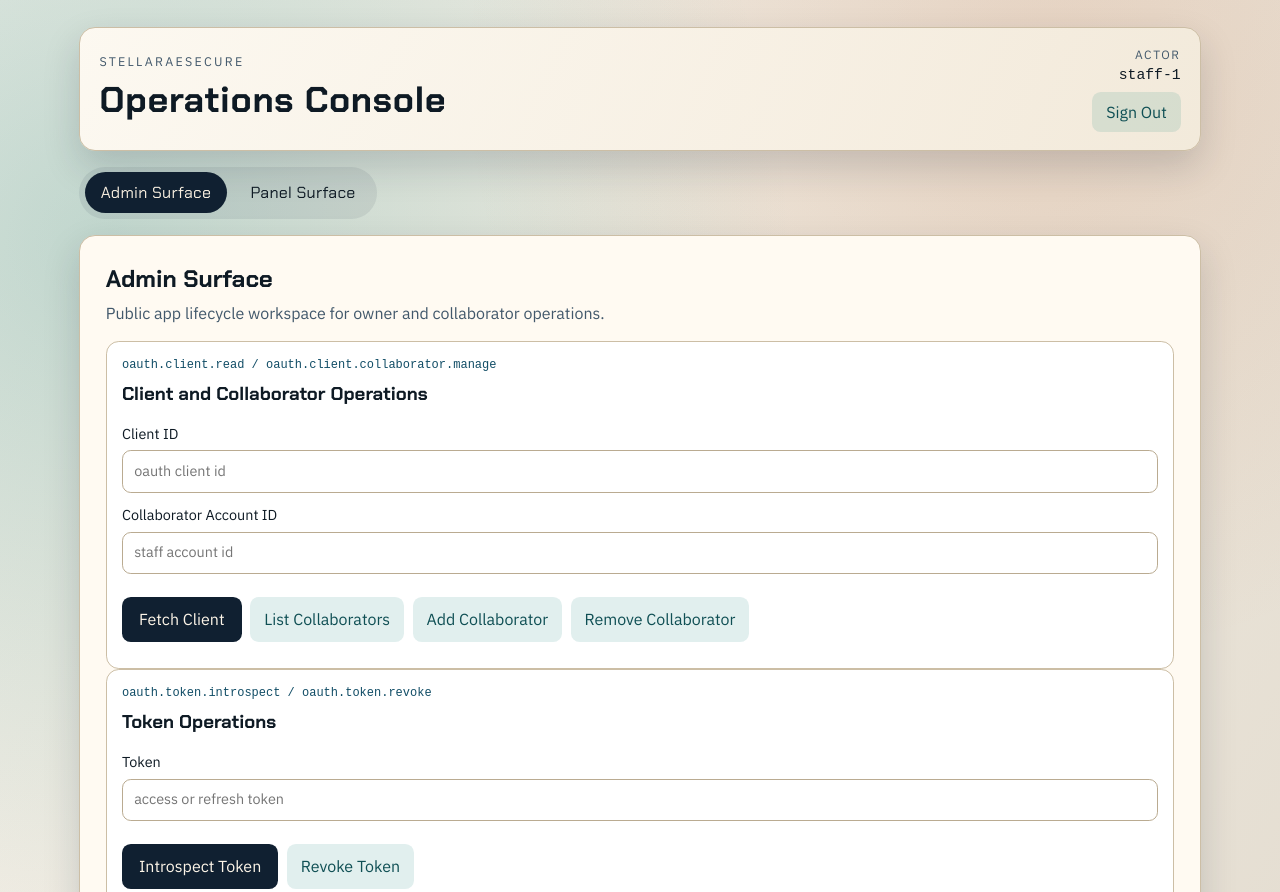
Test: admin application integration flows › shows authorization messaging when admin client fetch returns 403
The width and height of the screenshot is (1280, 892).
Type "client-123" into the field with placeholder "oauth client id" at (640, 472), box [122,450,1158,493]
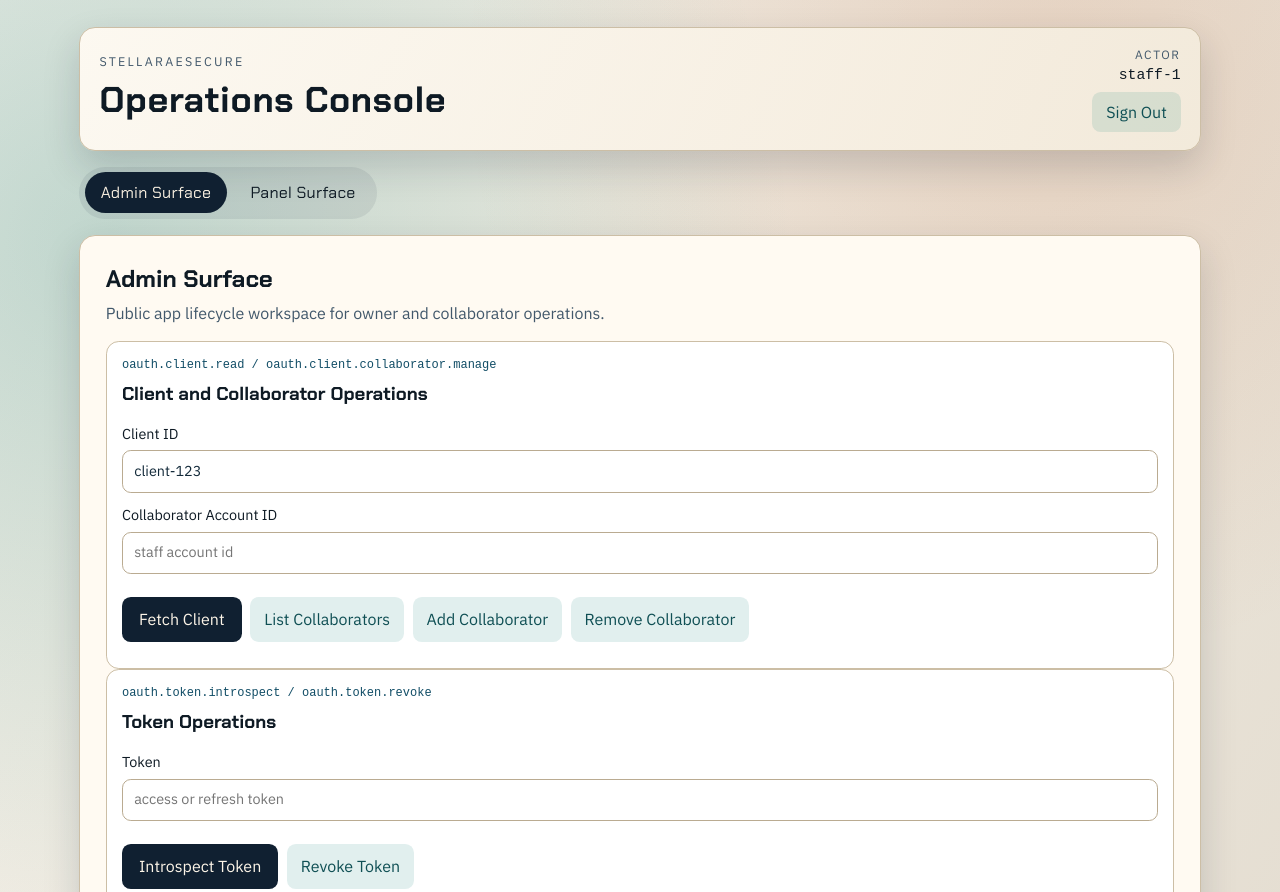
Click the button "Fetch Client" at (182, 620), box [122,597,242,642]
(page scrolled)
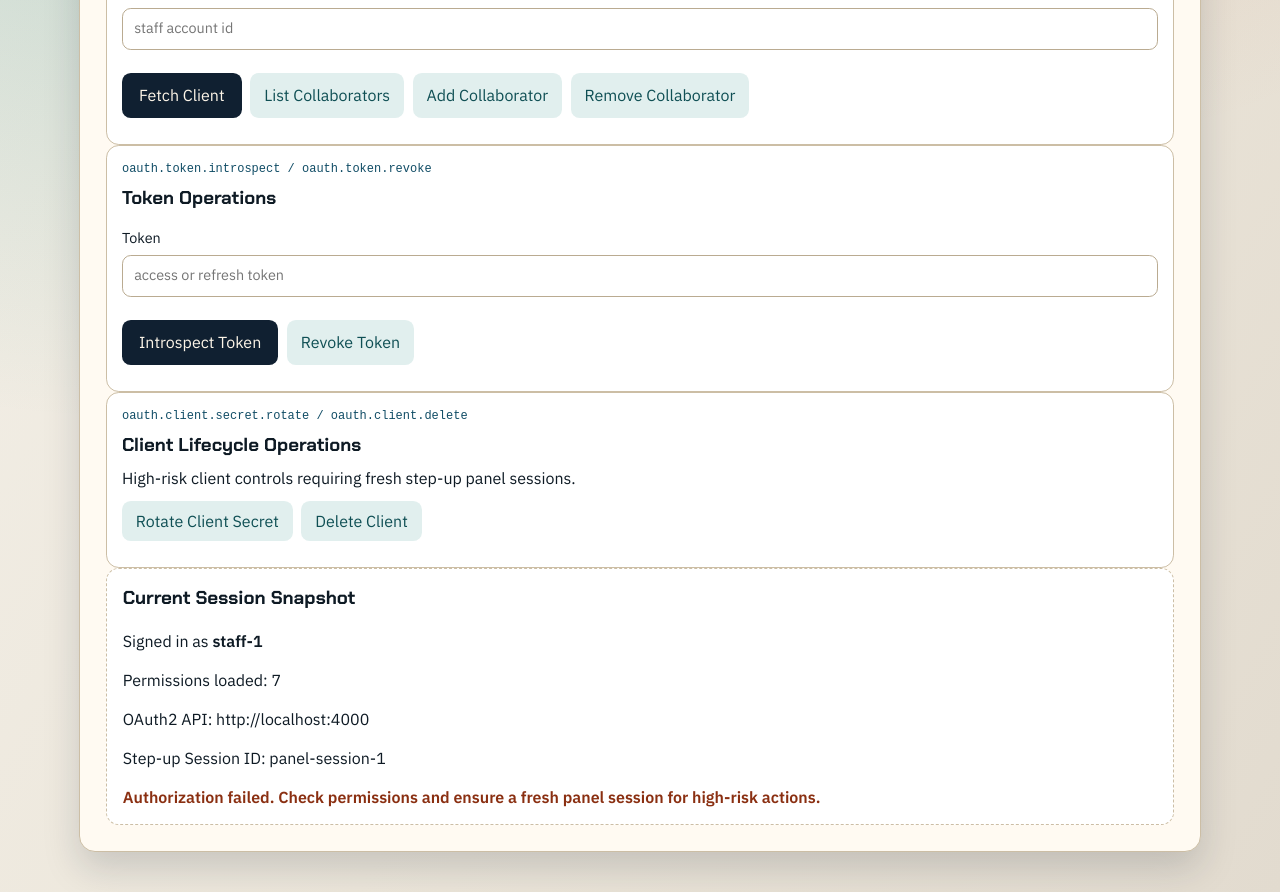
Expected: the text "Authorization failed. Check permissions" is shown, [123,787,820,807]
